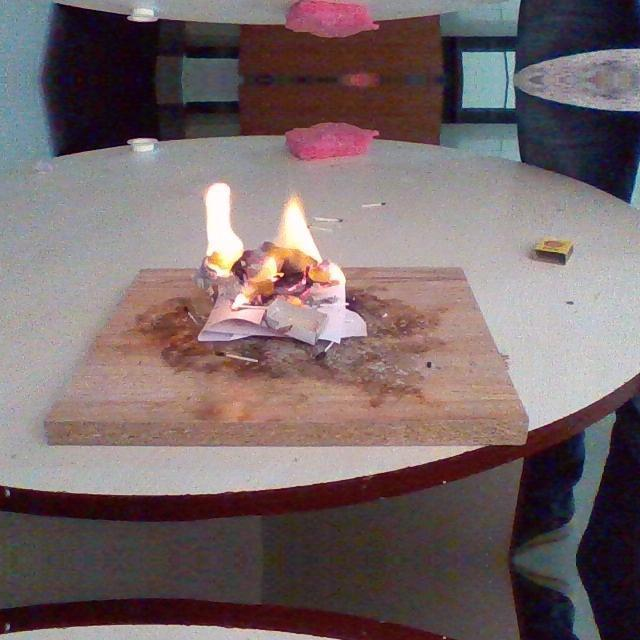smoke: (248, 194, 346, 306), (196, 178, 244, 280)
